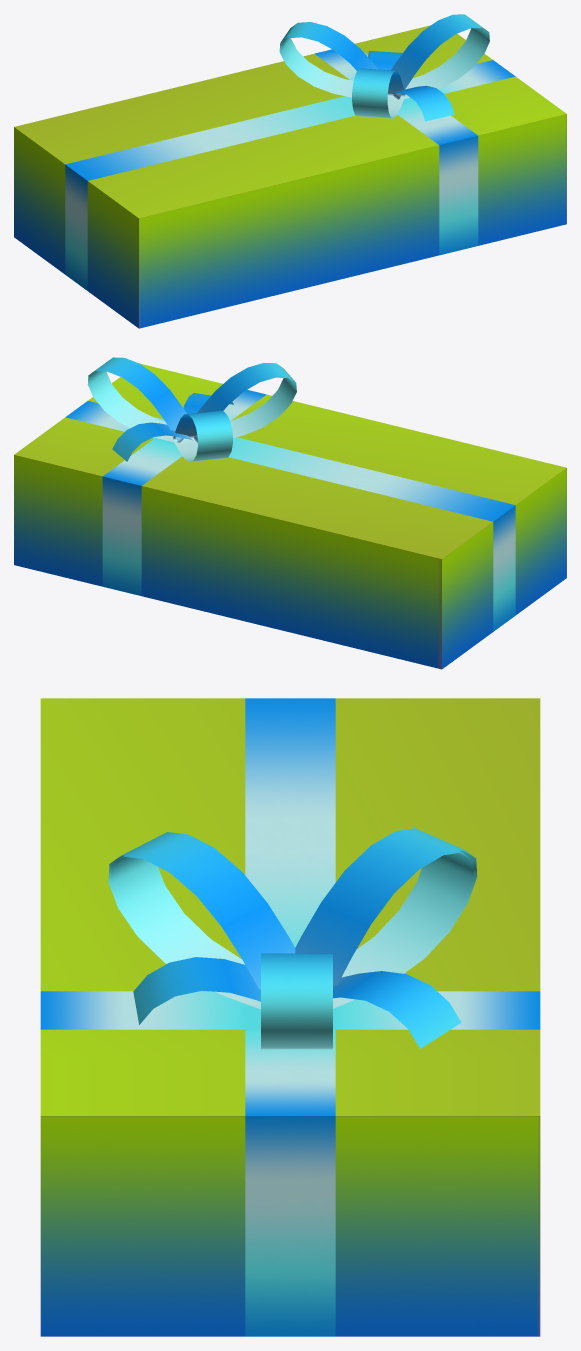
The model's file is Gift_04.FBX.
3 views of the same model, one above another, from view 1: azimuth 30°, elevation 25°; view 2: azimuth 150°, elevation 25°; view 3: azimuth 270°, elevation 25° (orthographic). The views are drawn at different scales.
Visible parts, largest first — view 1: Gift_04; view 2: Gift_04; view 3: Gift_04.
Part boxes in pixels (x1,y1,x2,y2): Gift_04: (14, 14, 566, 328); Gift_04: (14, 357, 566, 669); Gift_04: (40, 698, 540, 1336).
Size of the model in its own units: 159 by 59.12 by 80.66.
